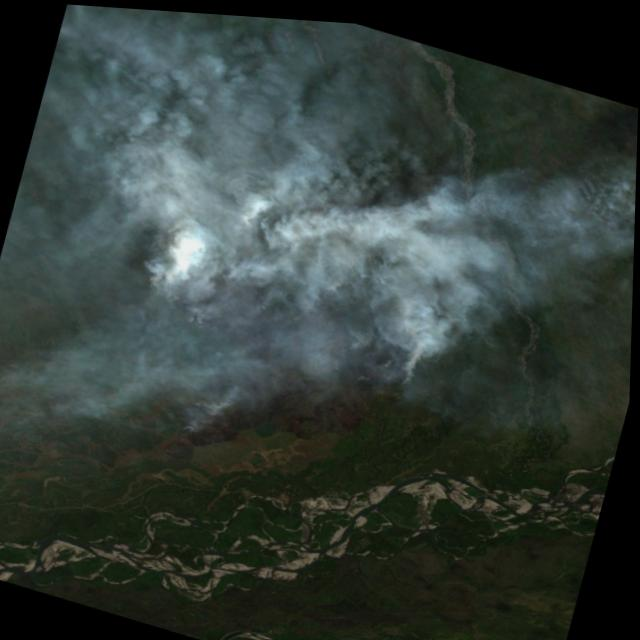fire: (133, 188, 272, 343), (333, 306, 439, 404), (168, 383, 255, 449), (297, 258, 361, 310)
